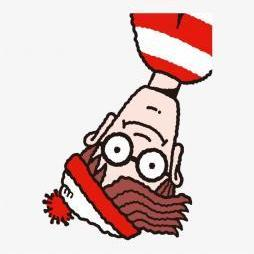waldos: (36, 7, 221, 244)
